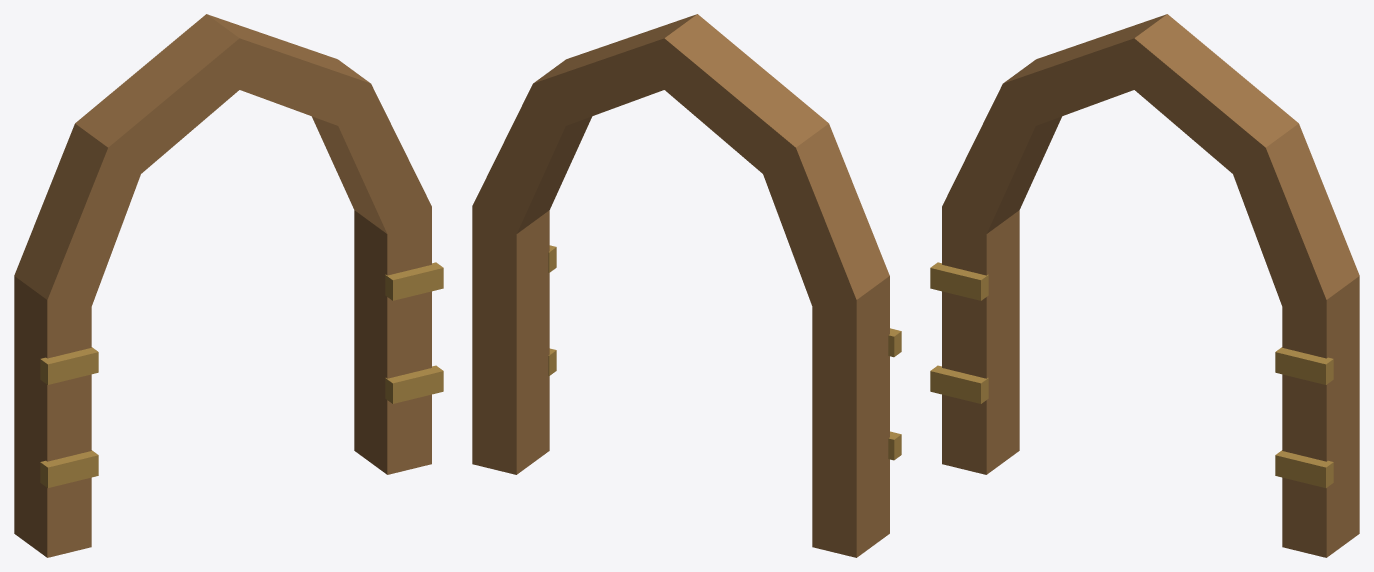
The model's file is PirateCove_WreckRibArch_Standard.glb.
3 views of the same model, side by side, from view 1: azimuth 30°, elevation 25°; view 2: azimuth 150°, elevation 25°; view 3: azimuth 330°, elevation 25° (orthographic).
Visible parts, largest first — view 1: PirateCove_WreckRibArch_Standard; view 2: PirateCove_WreckRibArch_Standard; view 3: PirateCove_WreckRibArch_Standard.
Part boxes in pixels (x1,y1,x2,y2): PirateCove_WreckRibArch_Standard: (14, 14, 443, 557); PirateCove_WreckRibArch_Standard: (472, 14, 901, 557); PirateCove_WreckRibArch_Standard: (930, 14, 1359, 557).
Bounding box in the file's own units: 2.41 × 2.75 × 0.415.
